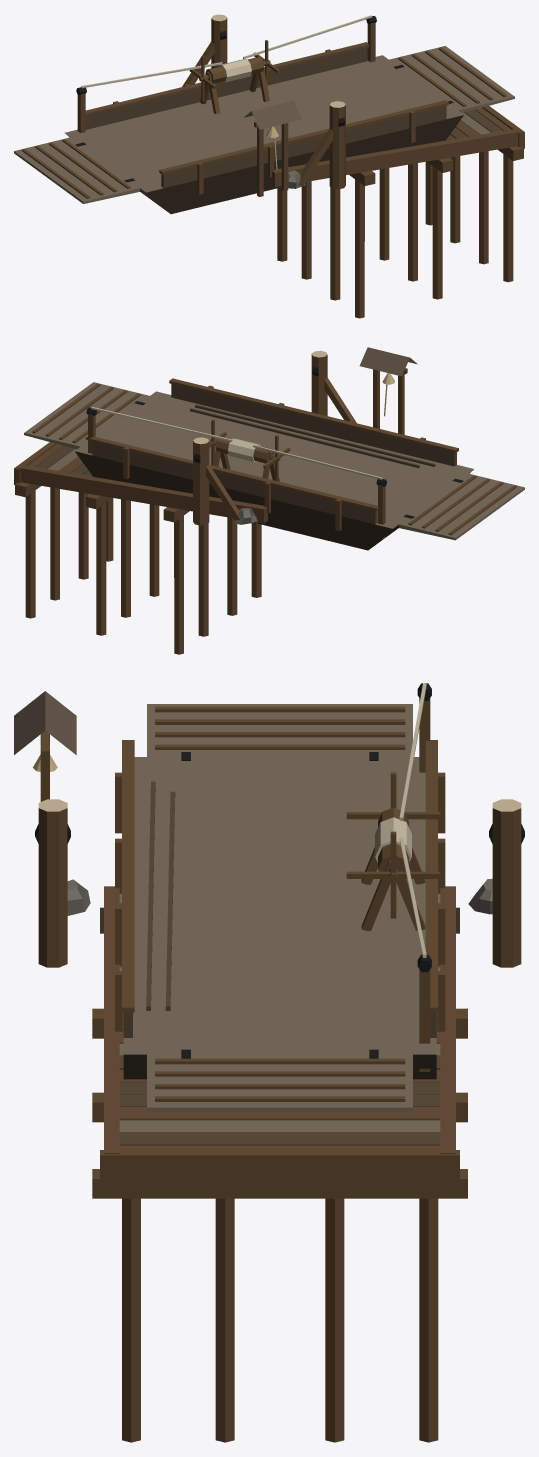
File: wasser_faehre.glb
3 views of the same model, one above another, from view 1: azimuth 30°, elevation 25°; view 2: azimuth 150°, elevation 25°; view 3: azimuth 270°, elevation 25° (orthographic). The views are drawn at different scales.
Visible parts, largest first — view 1: Faehre, Anlegesteg, Klappe_A, Klappe_B; view 2: Faehre, Anlegesteg, Klappe_A, Klappe_B; view 3: Faehre, Anlegesteg, Klappe_B, Klappe_A.
Part boxes in pixels (x1,y1,x2,y2): Faehre: [64, 15, 463, 214]; Anlegesteg: [182, 14, 524, 318]; Klappe_A: [14, 137, 139, 203]; Klappe_B: [389, 46, 514, 112]; Faehre: [74, 378, 473, 550]; Anlegesteg: [14, 347, 417, 654]; Klappe_A: [399, 473, 524, 540]; Klappe_B: [24, 382, 149, 449]; Faehre: [115, 683, 445, 1079]; Anlegesteg: [14, 691, 524, 1442]; Klappe_B: [147, 1049, 412, 1111]; Klappe_A: [147, 704, 412, 760].
Size of the model in its own units: 12.2 by 6.85 by 6.53.
